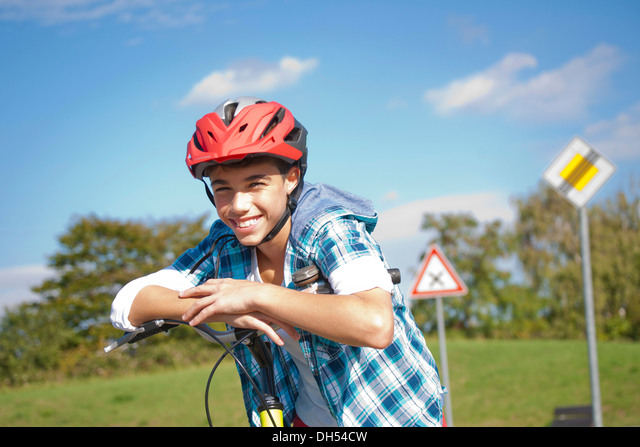helmet: (185, 96, 308, 247)
